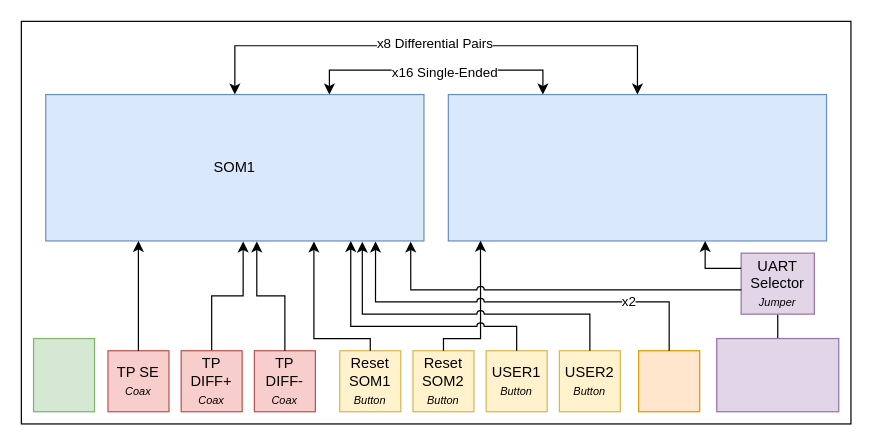
This 872x445 diagram has some shape labels left out. Here are the shapes that lost their labels. From the top down, the box of each, then its label:
(447, 93, 827, 241): SOM2
(32, 337, 95, 412): 9-15V Input Terminal block
(637, 350, 700, 412): LEDs
(716, 337, 839, 412): UART-to-USB
